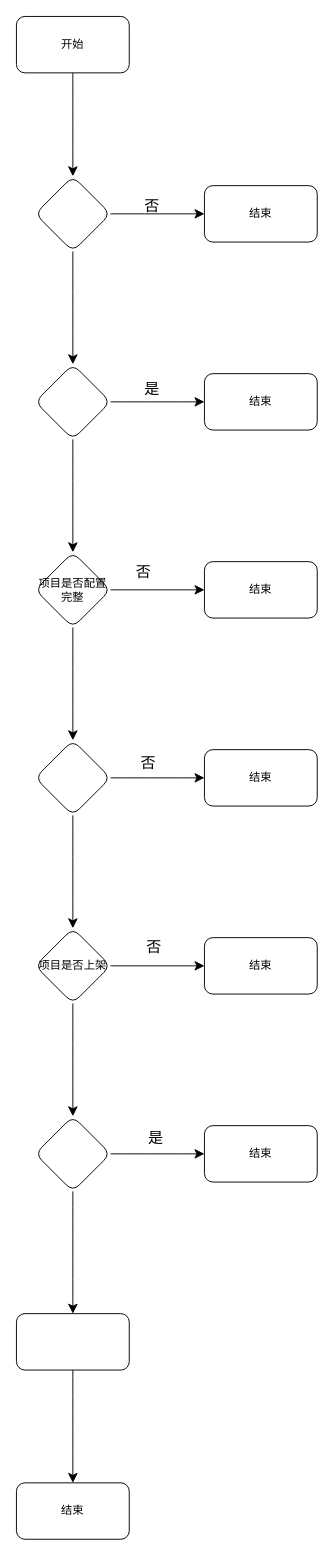
This 334x1556 diagram has some shape labels left out. The shapes that lost their labels are listed below. From the top down, each one's centre as x and y in pixels, then its label:
At point (72, 213): "用户是否满足参与条件".
At point (72, 401): "判断疑似国家".
At point (72, 777): "项目是否在申领期".
At point (72, 1153): "用户是否已申领过".
At point (72, 1341): "更新用户申请标记".
